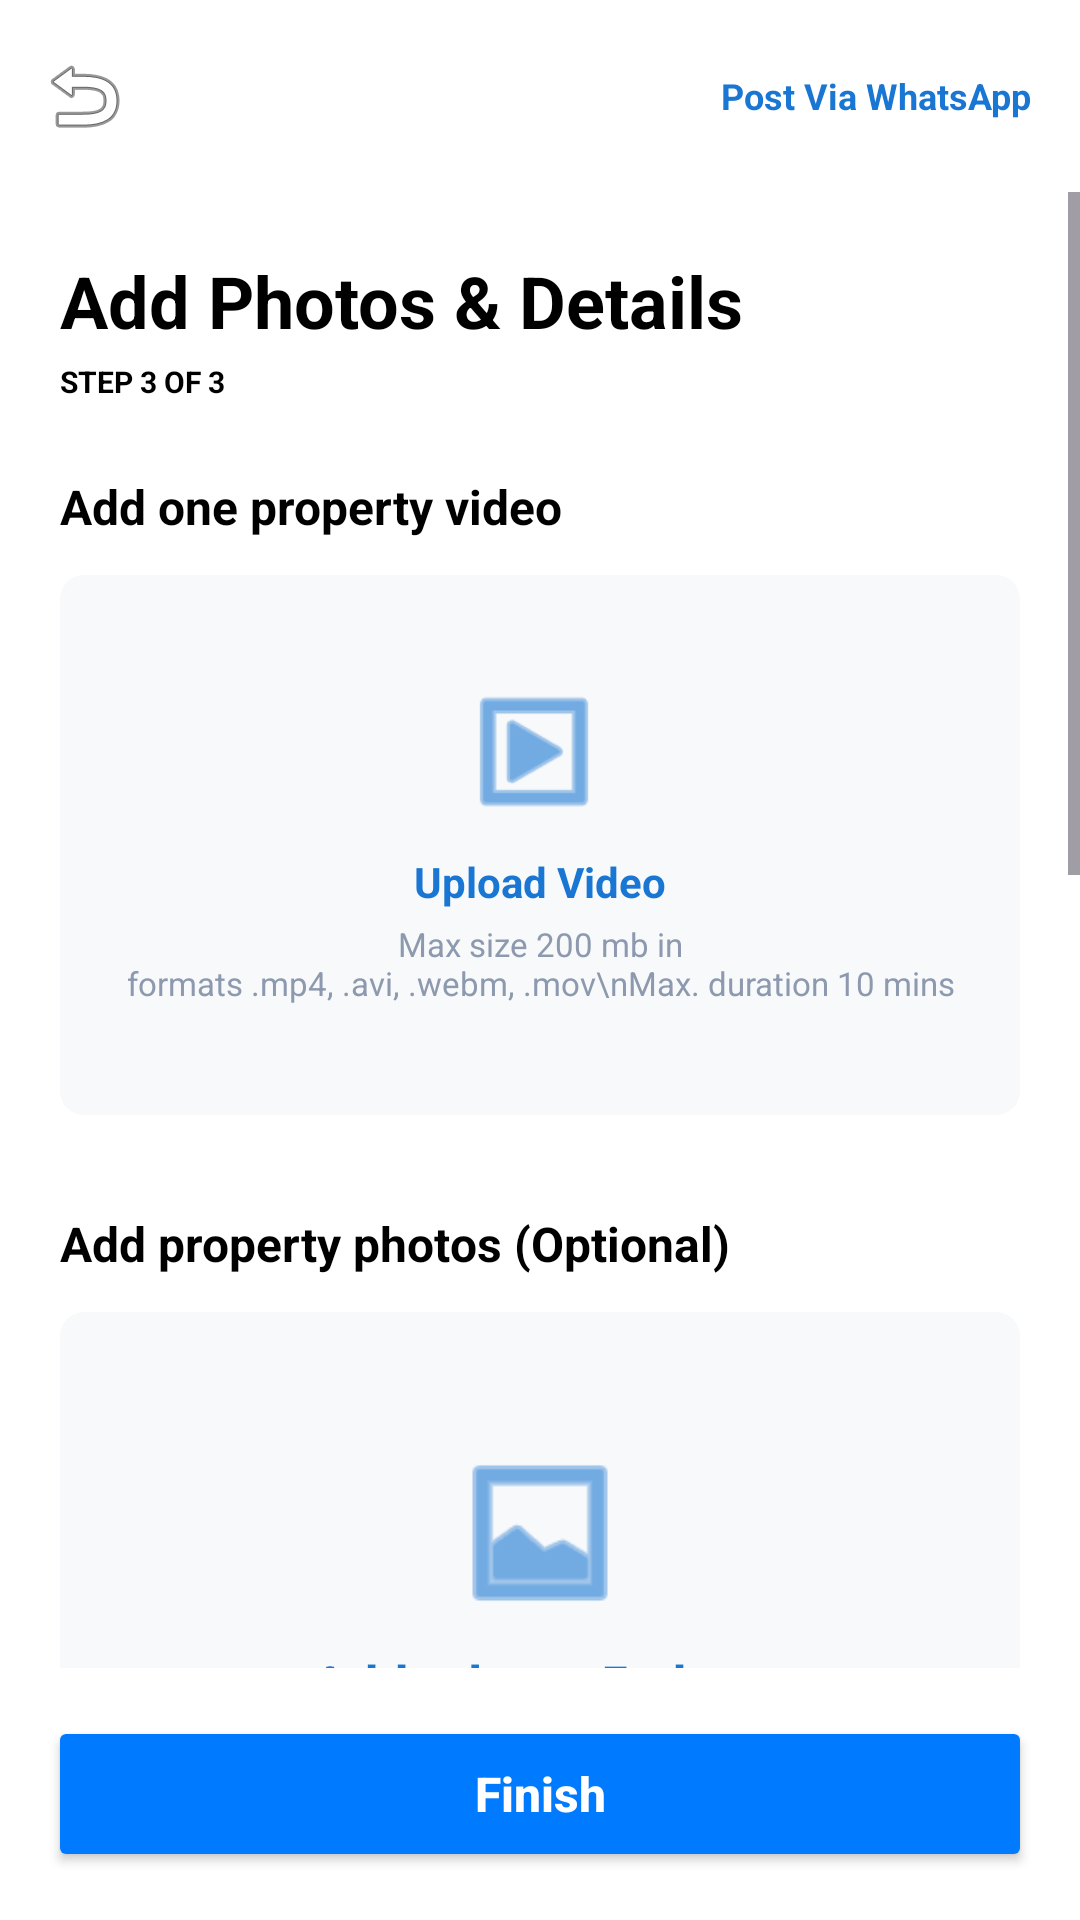

Icon bounding boxes for this 1080 × 1920 phone screenshot, format [x1,y1,x2,y2]:
gallery: [472,1465,608,1601]
slideshow: [480,697,588,806]
